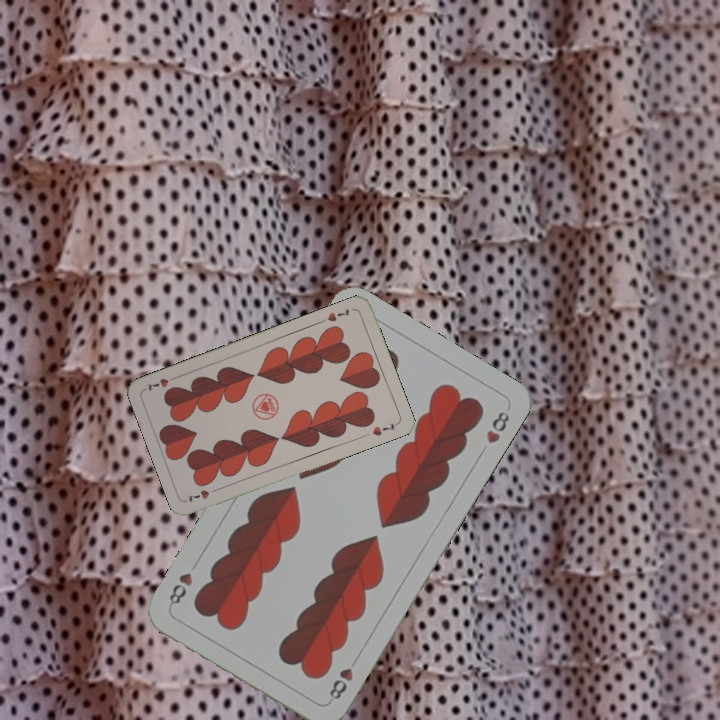H7: (184, 484, 222, 505), (323, 305, 353, 324)
H8: (325, 664, 356, 702)
